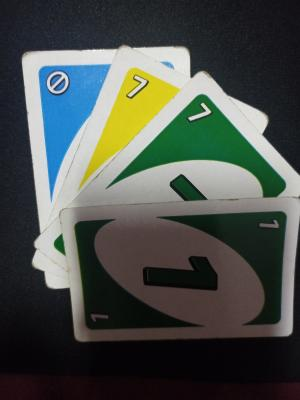blue: (34, 62, 85, 173)
green: (143, 142, 281, 198)
num_1: (138, 250, 242, 310), (83, 298, 123, 334), (256, 213, 282, 246)
num_7: (185, 101, 225, 146), (123, 70, 154, 115)
skip: (39, 65, 83, 107)
